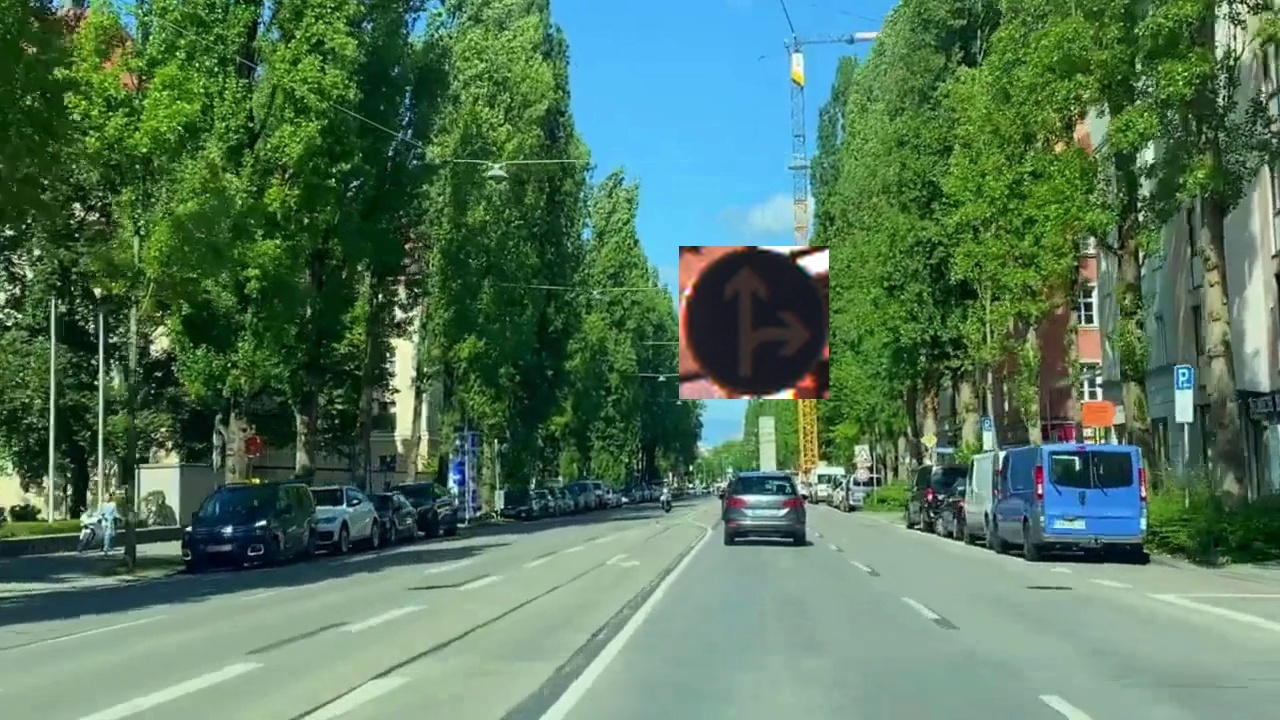Straight/right: (679, 246, 829, 399)
